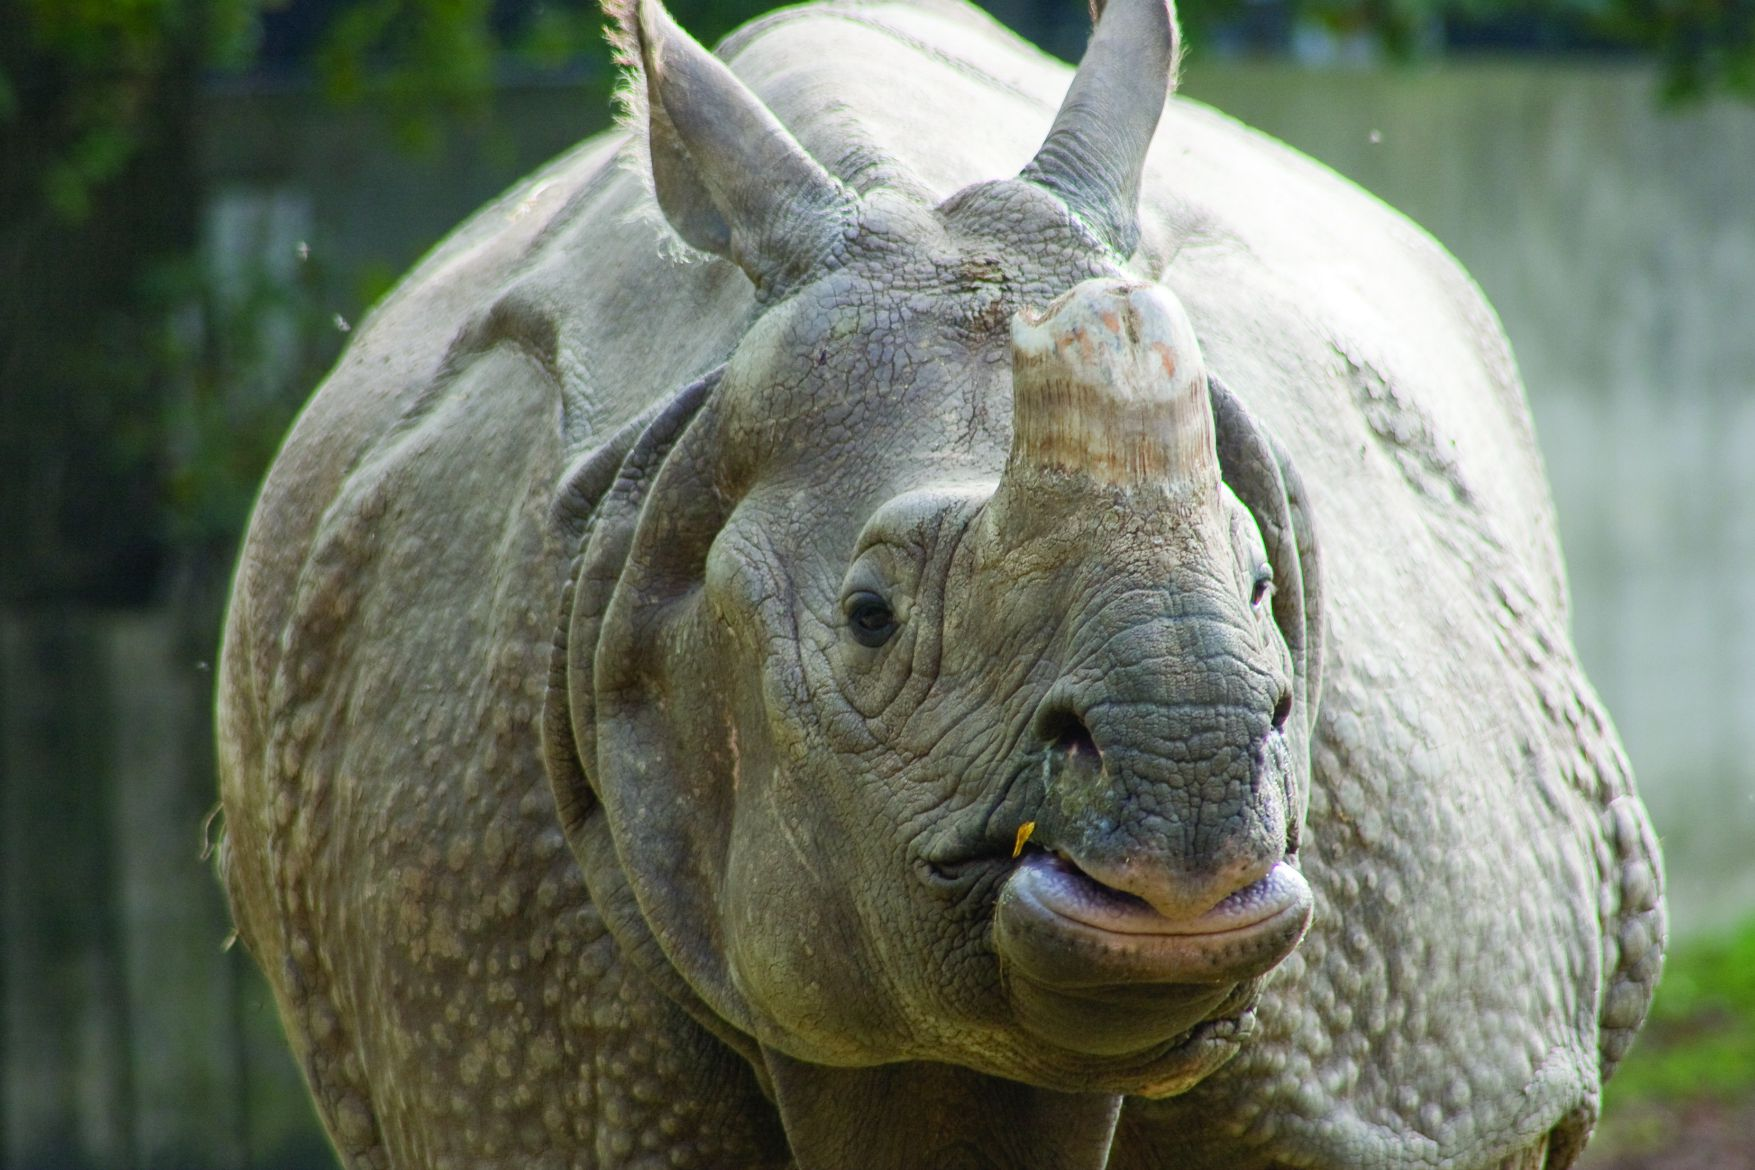rhinoceros: (195, 1, 1684, 1170)
